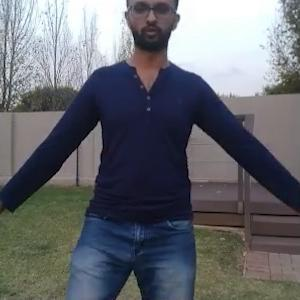land: (22, 7, 272, 298)
